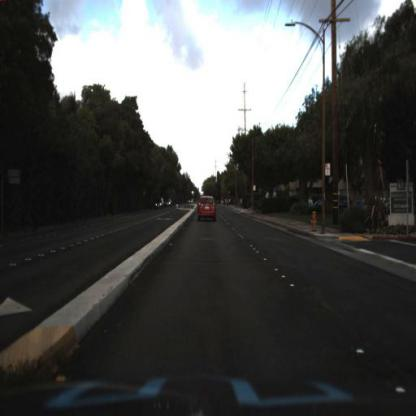car: (198, 195, 219, 222), (166, 197, 174, 210)
